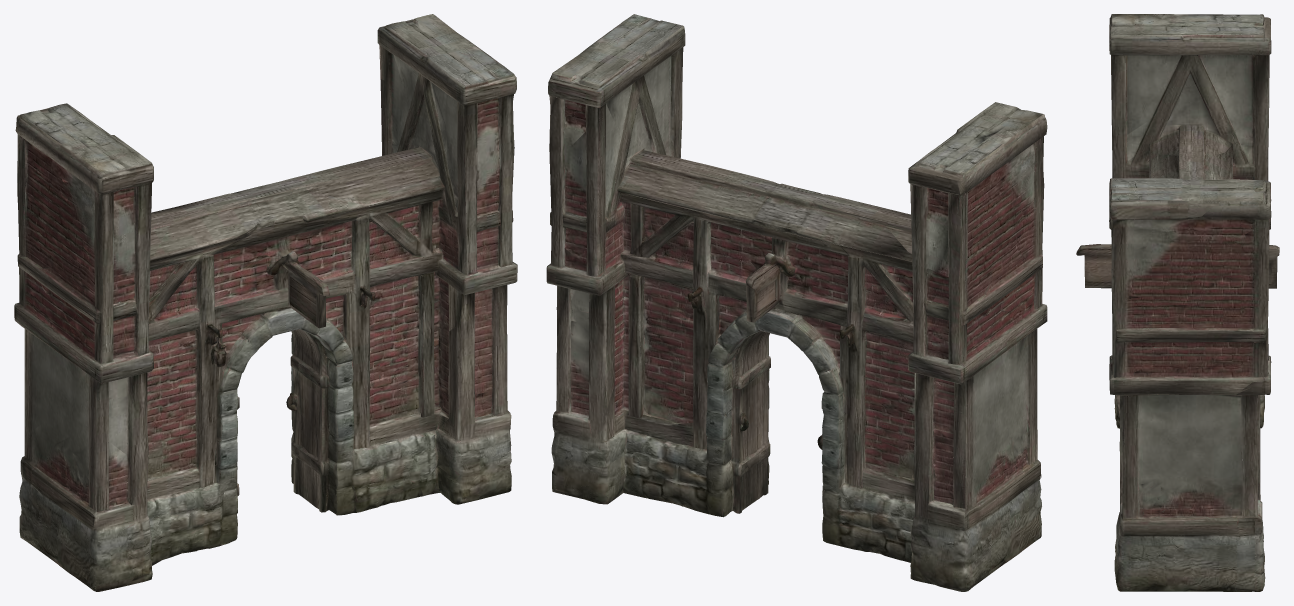
File: infill-passage-gate.glb
3 renders of one model, left to right at view 1: azimuth 30°, elevation 25°; view 2: azimuth 150°, elevation 25°; view 3: azimuth 270°, elevation 25°, orthographic. The views are drawn at different scales.
Parts seen in each view (by area): view 1: Mesh_0; view 2: Mesh_0; view 3: Mesh_0.
Part boxes in pixels (<box>): Mesh_0: <box>14,14,517,591</box>; Mesh_0: <box>546,14,1047,591</box>; Mesh_0: <box>1076,14,1279,591</box>.
Size of the model in its own units: 1.9 by 1.81 by 0.8554.
1 material, 1 textured.
